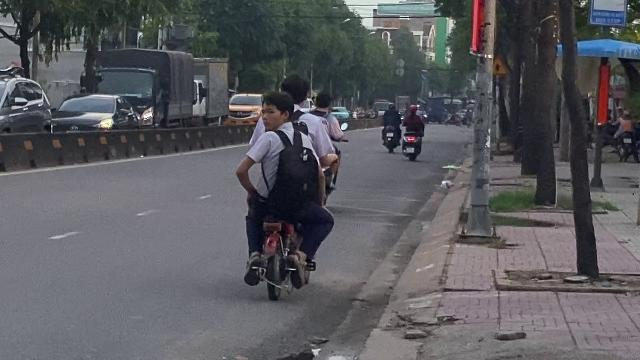motorcyclist: (232, 70, 342, 304)
nohelmet: (258, 90, 294, 131), (278, 74, 310, 102)
